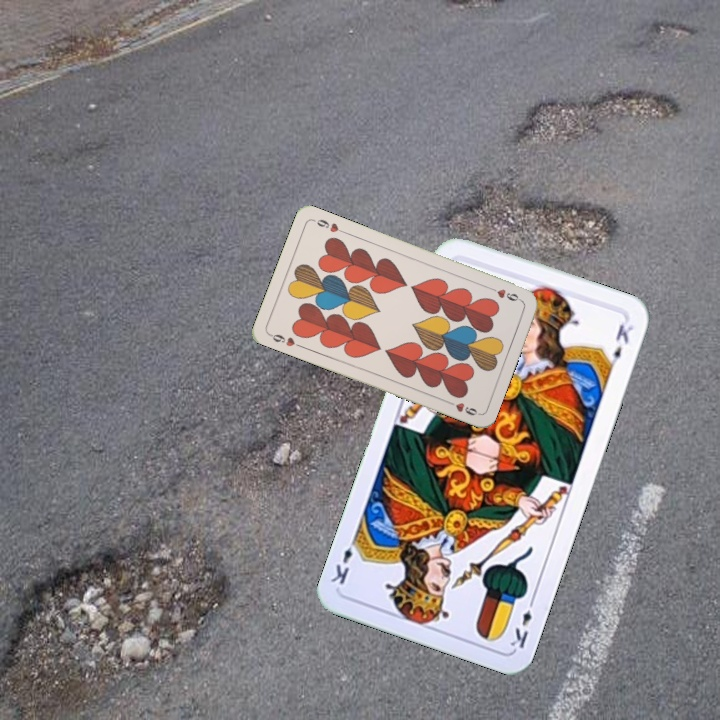EK: (506, 593, 538, 651)
H9: (485, 283, 524, 304), (265, 330, 305, 350)
